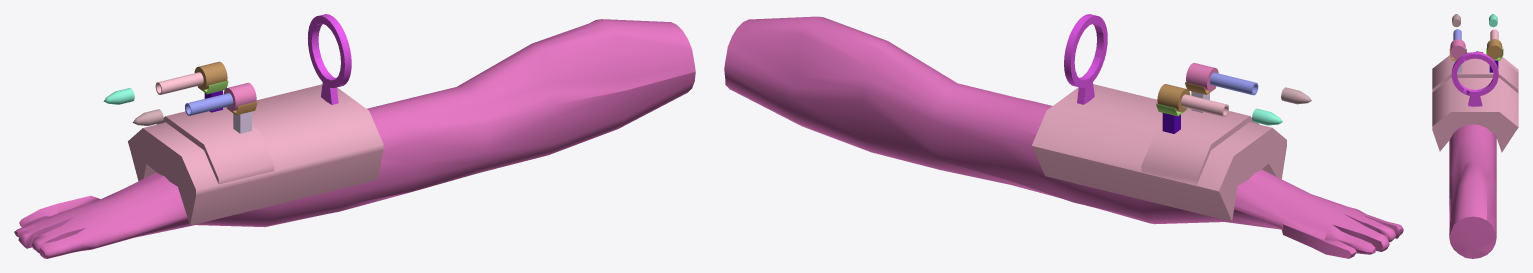
3 views of the same model, side by side, from view 1: azimuth 30°, elevation 25°; view 2: azimuth 150°, elevation 25°; view 3: azimuth 270°, elevation 25° (orthographic). The views are drawn at different scales.
Parts seen in each view (by area): view 1: Object_2.004, Object_3.053, Object_2, Object_2.028, Object_3.001, Object_3.006, Object_3; view 2: Object_2.004, Object_3.053, Object_2, Object_3.001, Object_2.028, Object_3.006, Object_3; view 3: Object_2.004, Object_3.053, Object_2, Object_3.006, Object_3, Object_3.004, Object_3.003, Object_3.001, Object_2.028.
Boxes of the visible parts, x1,y1,x2,y2 form: Object_2.004: (14,19,695,258); Object_3.053: (128,84,383,225); Object_2: (307,14,351,104); Object_2.028: (155,72,203,94); Object_3.001: (185,93,233,115); Object_3.006: (194,61,227,90); Object_3: (223,82,256,111); Object_2.004: (724,16,1403,258); Object_3.053: (1031,84,1286,221); Object_2: (1064,14,1107,104); Object_3.001: (1210,72,1258,95); Object_2.028: (1181,94,1228,117); Object_3.006: (1157,84,1190,112); Object_3: (1186,63,1218,91); Object_2.004: (1449,51,1496,258); Object_3.053: (1432,55,1518,152); Object_2: (1451,52,1498,106); Object_3.006: (1487,39,1502,59); Object_3: (1450,39,1465,59); Object_3.004: (1489,14,1497,27); Object_3.003: (1452,14,1460,27); Object_3.001: (1453,29,1461,40); Object_2.028: (1490,29,1498,39).
Bounding box in the file's own units: 1 × 0.2781 × 0.1812.
